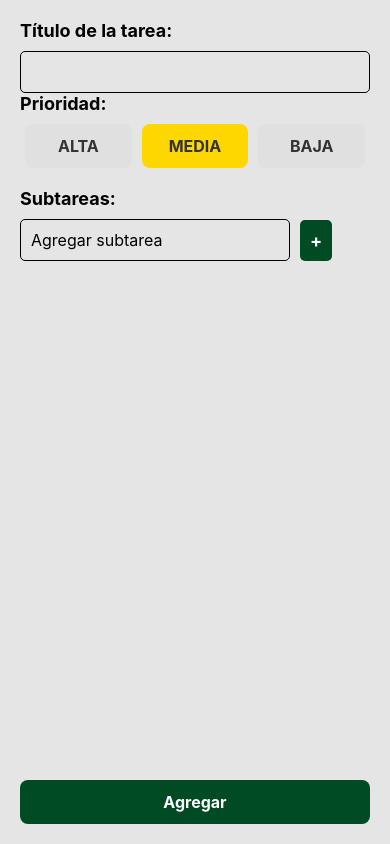
Scenario: TaskForm Component › Debe eliminar una subtarea correctamente
In the field with placeholder "Agregar subtarea": (155, 240) [20,219,290,261], type "Subtarea a eliminar"
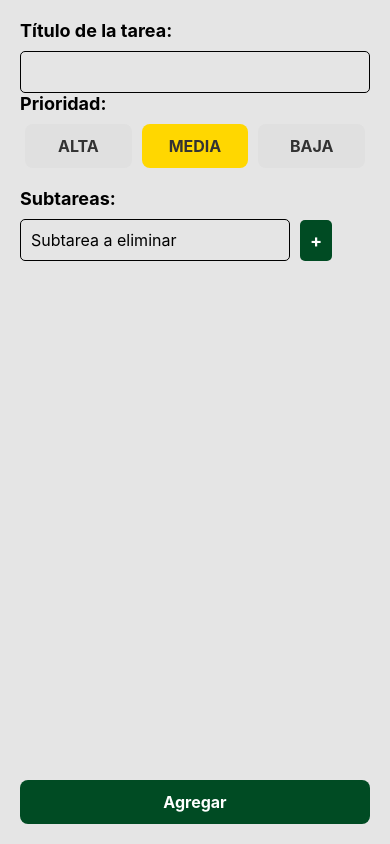
Click the text "+": (316, 240) [310,230,322,250]
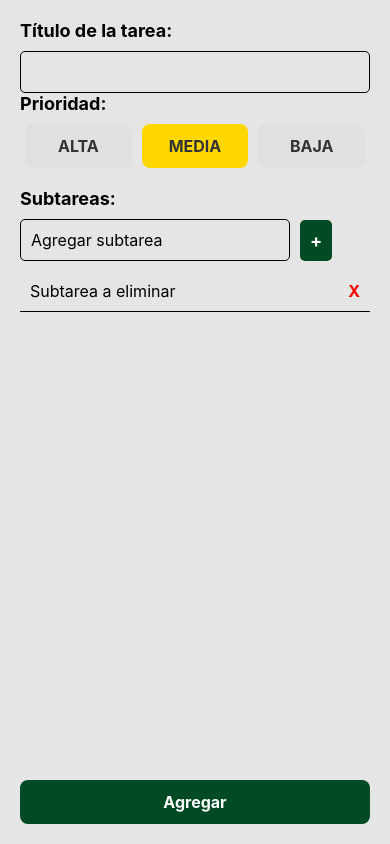
Click the text "X": (354, 291) [348,281,360,301]
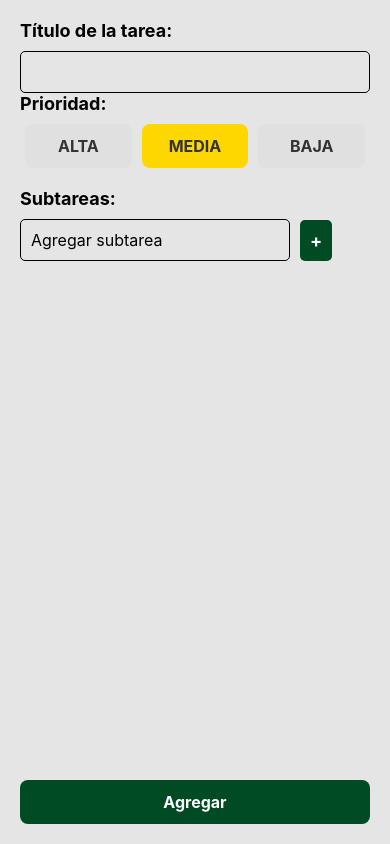
Expected: the text "Subtarea a eliminar" is gone
